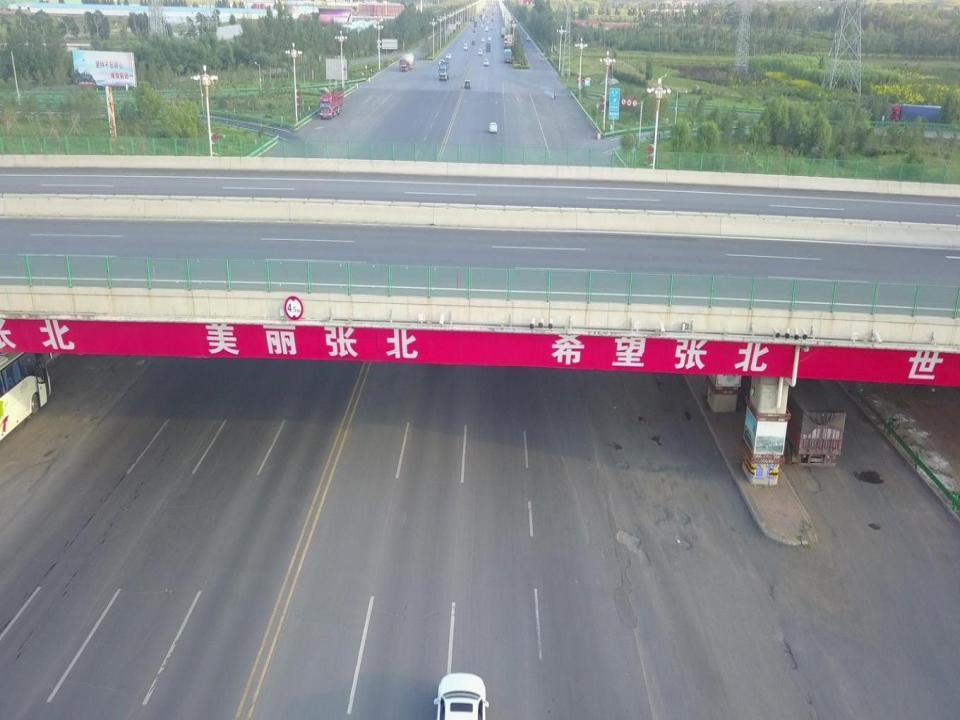bus: (0, 352, 54, 440)
car: (434, 670, 489, 720), (489, 121, 497, 133), (464, 80, 472, 88), (438, 59, 444, 66), (484, 59, 489, 66), (445, 54, 451, 59), (480, 38, 484, 42), (472, 40, 475, 44), (488, 36, 491, 40)
truck: (741, 374, 847, 466), (889, 103, 942, 127), (318, 90, 344, 120), (399, 52, 414, 72), (438, 61, 450, 80), (504, 50, 511, 63), (500, 28, 505, 38), (486, 41, 490, 53)
van: (479, 49, 482, 55), (464, 43, 467, 49)
